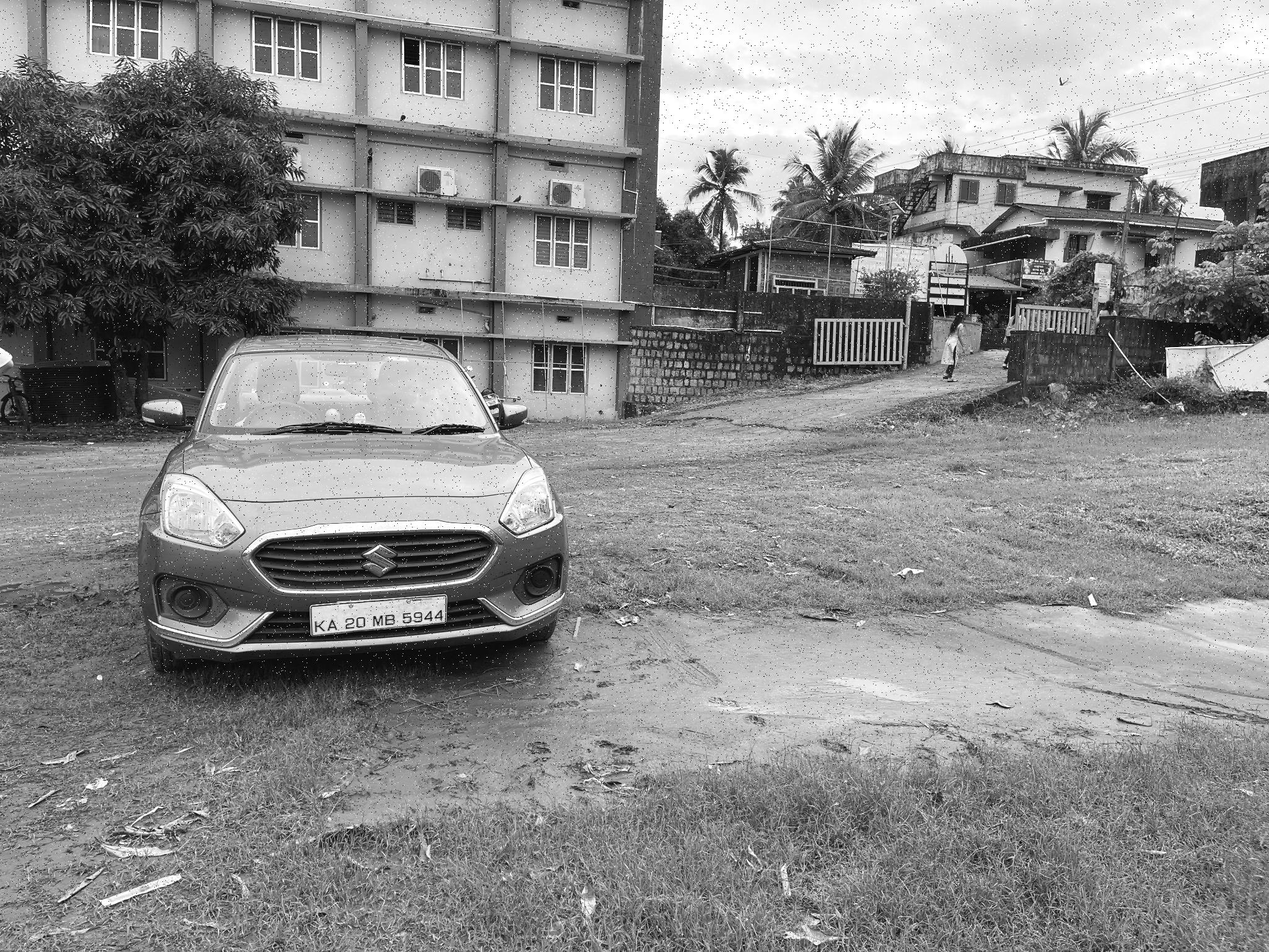car: (132, 328, 580, 674)
